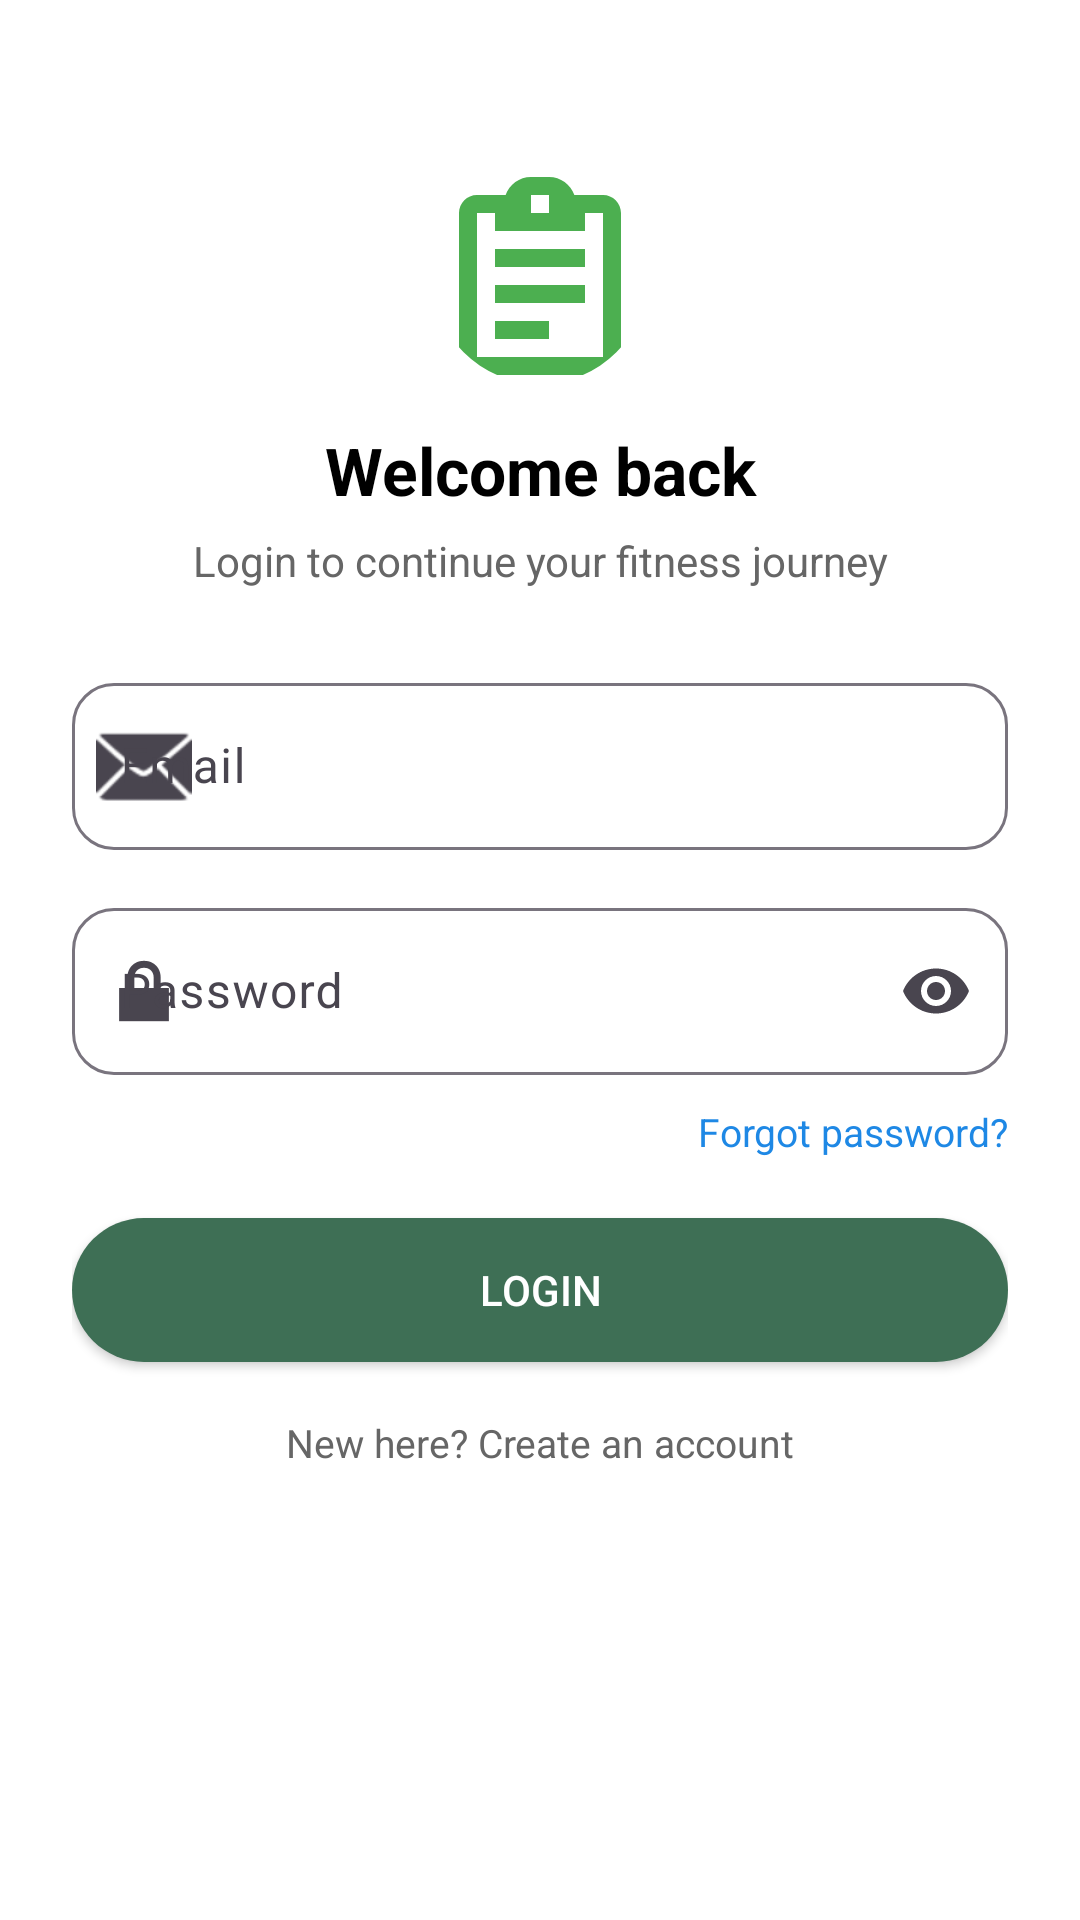

Point at icon controls on the screen. Image size 1080x1920, points as (x,y).
App icon: (540,276)
